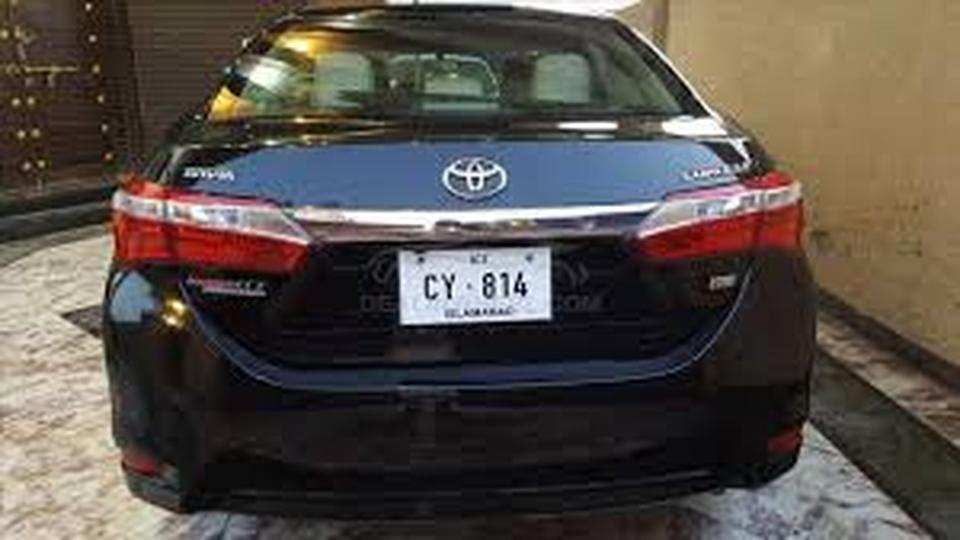NumberPlate: (397, 245, 556, 330)
